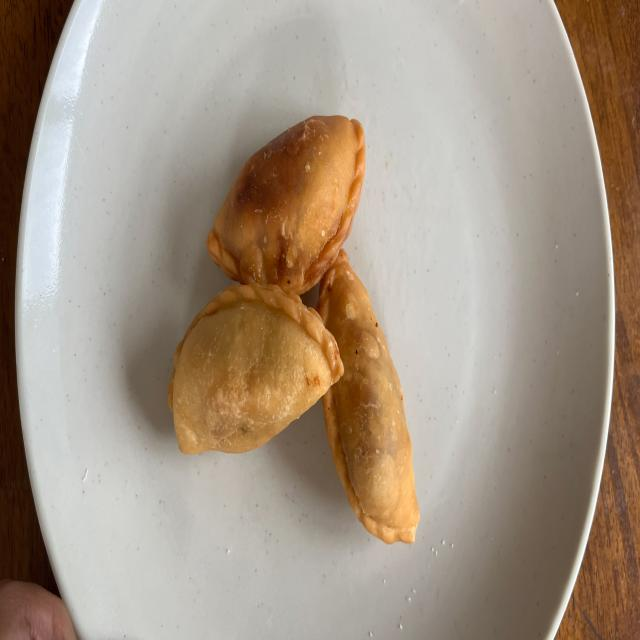karipap: (318, 249, 420, 544), (169, 284, 344, 453), (206, 116, 365, 296)
